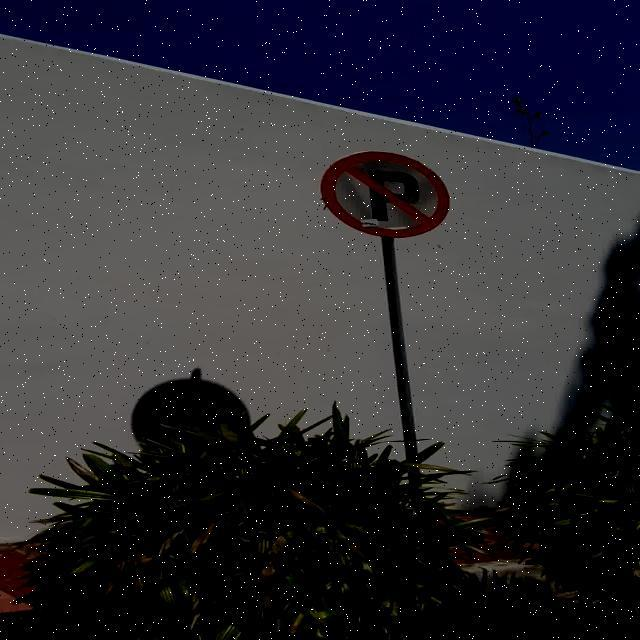Dilarang Parkir: (320, 151, 452, 237)
